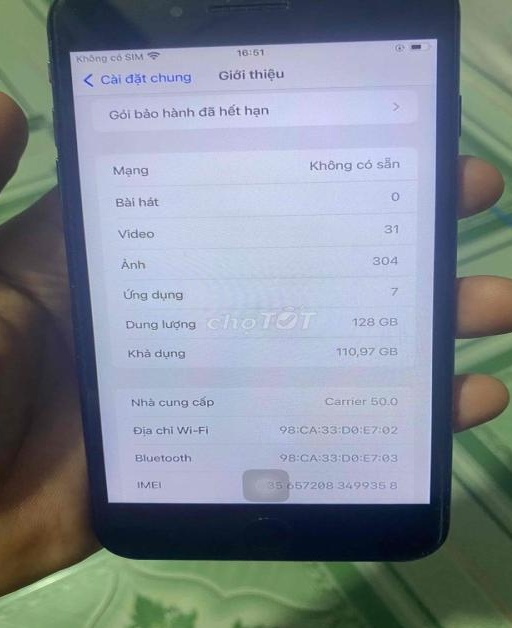scratch: (250, 507, 273, 523)
